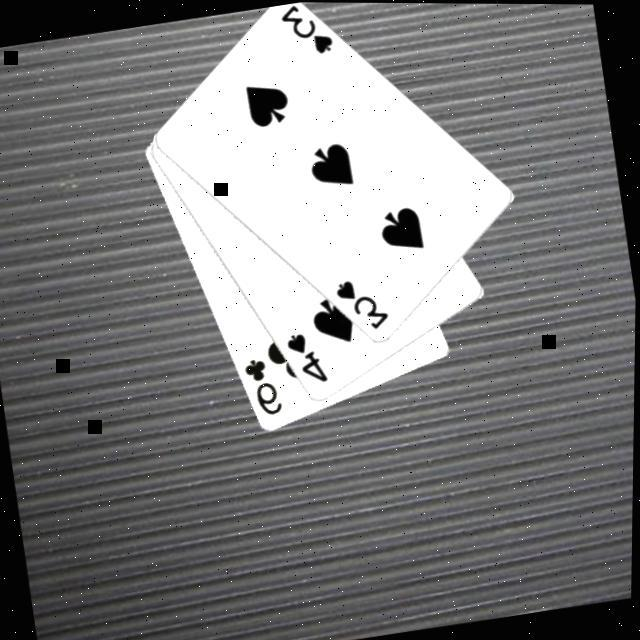3S: (334, 271, 398, 337), (277, 2, 340, 63)
4S: (285, 327, 335, 391)
6C: (242, 353, 290, 421)
